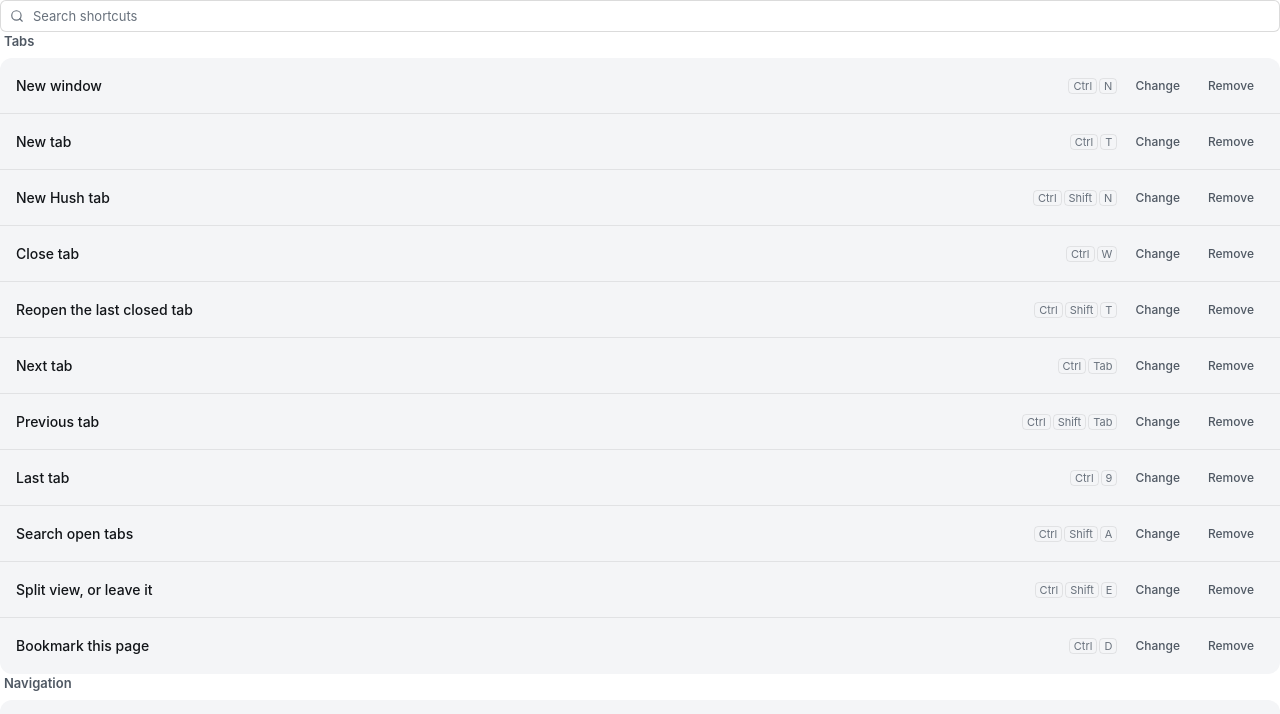
the shortcuts pane › cannot move keys that are not menu items
Type "topmost panel" into the search field labelled "Search shortcuts" at (640, 16), box [0,0,1279,32]
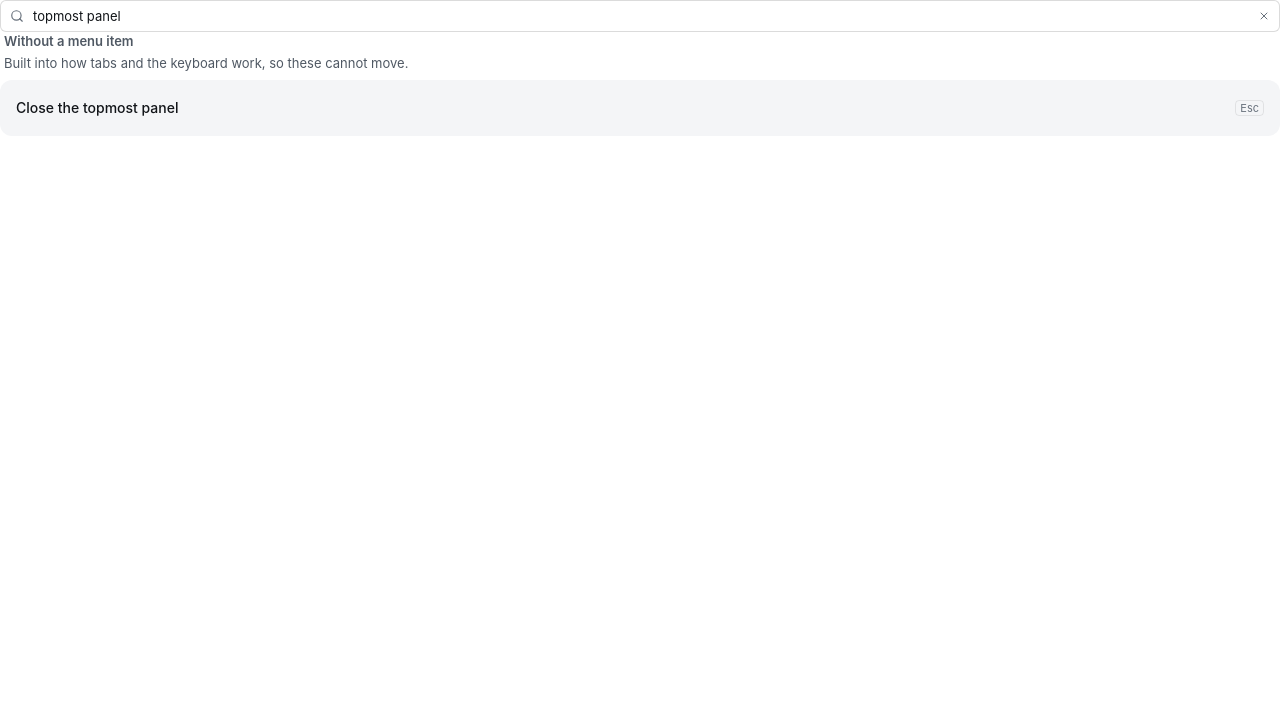
Check: the text "Built into how tabs and the keyboard work, so these cannot move." is shown, box [4,55,408,71]
Check: the button "Change" is gone
